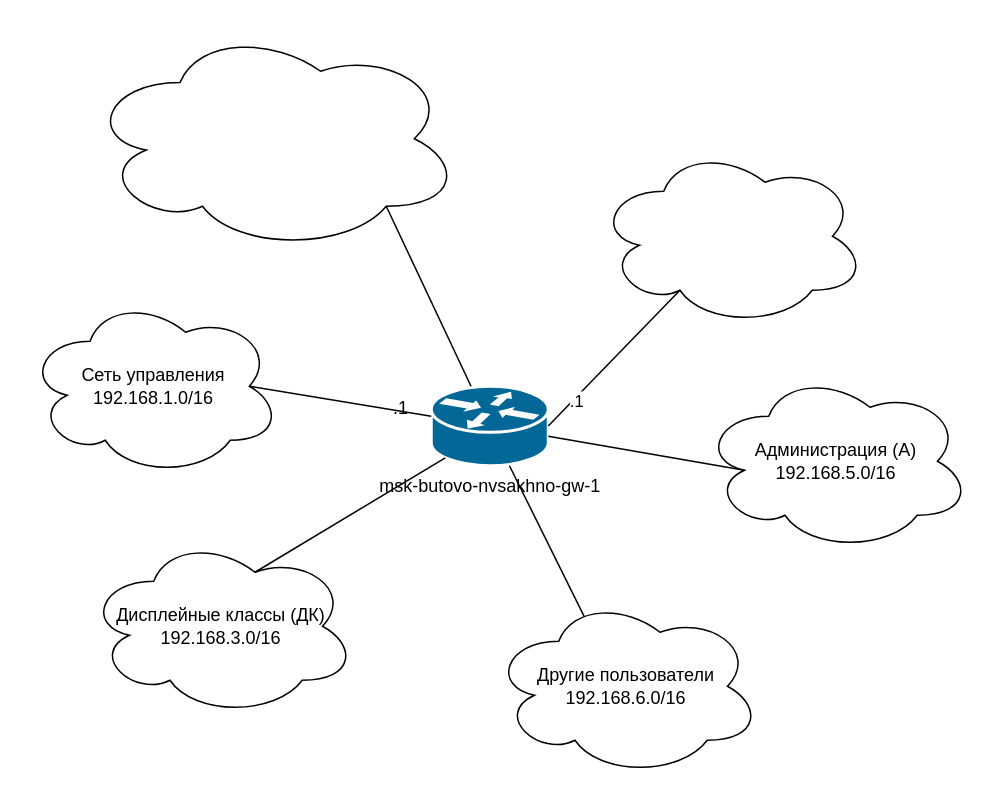
Image size: 998x803. Some labels were removed from this diagram. The shapes that lost their labels are listed below. From the top down, each one's box as (x1, y1, x2, y2) in pixels, then its label:
(85, 25, 461, 251): Серверная ферма 192.168.0.0/16
(595, 145, 866, 326): Кафедры (К) 192.168.4.0/16
